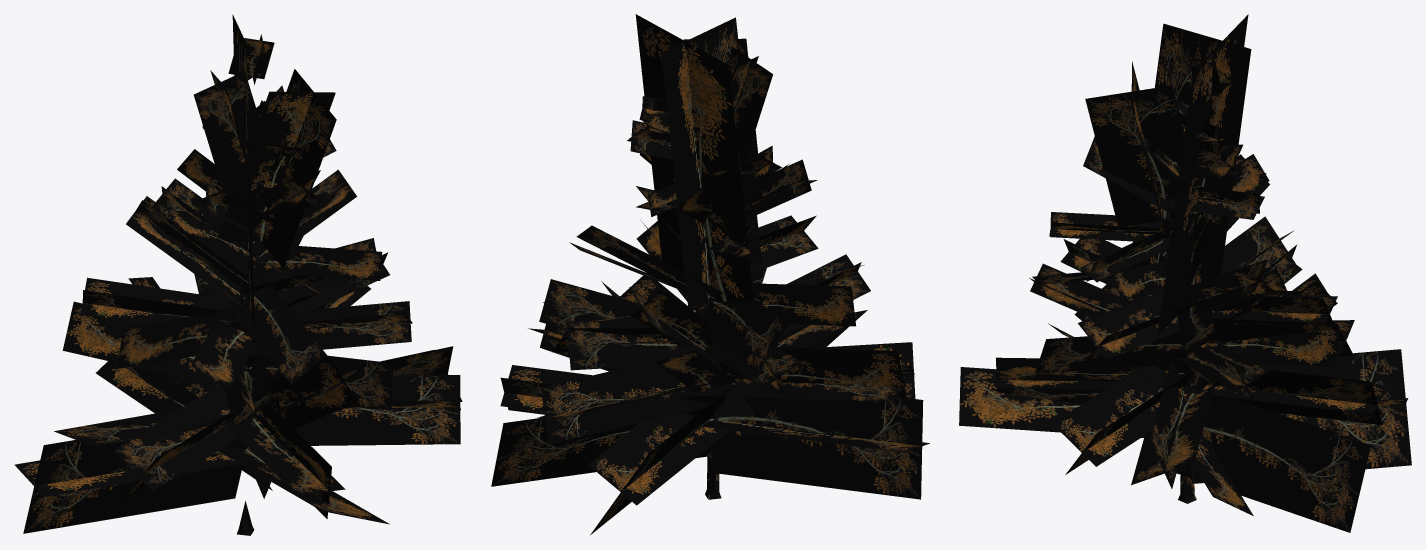
File: ash_fall.glb
3 renders of one model, left to right at view 1: azimuth 30°, elevation 25°; view 2: azimuth 150°, elevation 25°; view 3: azimuth 270°, elevation 25°, orthographic. The views are drawn at different scales.
Visible parts, largest first — view 1: 2_Leaves; view 2: 2_Leaves, 1_Trunk; view 3: 2_Leaves.
Boxes of the visible parts, left/top/right/bottom form: 2_Leaves: left=14, top=14, right=462, bottom=533; 2_Leaves: left=491, top=14, right=929, bottom=535; 1_Trunk: left=705, top=301, right=721, bottom=499; 2_Leaves: left=959, top=14, right=1411, bottom=532.
Size of the model in its own units: 225 by 256 by 223.
1 material, 1 textured.
